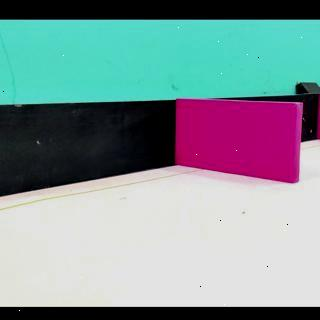xparking: (182, 105, 298, 178)
